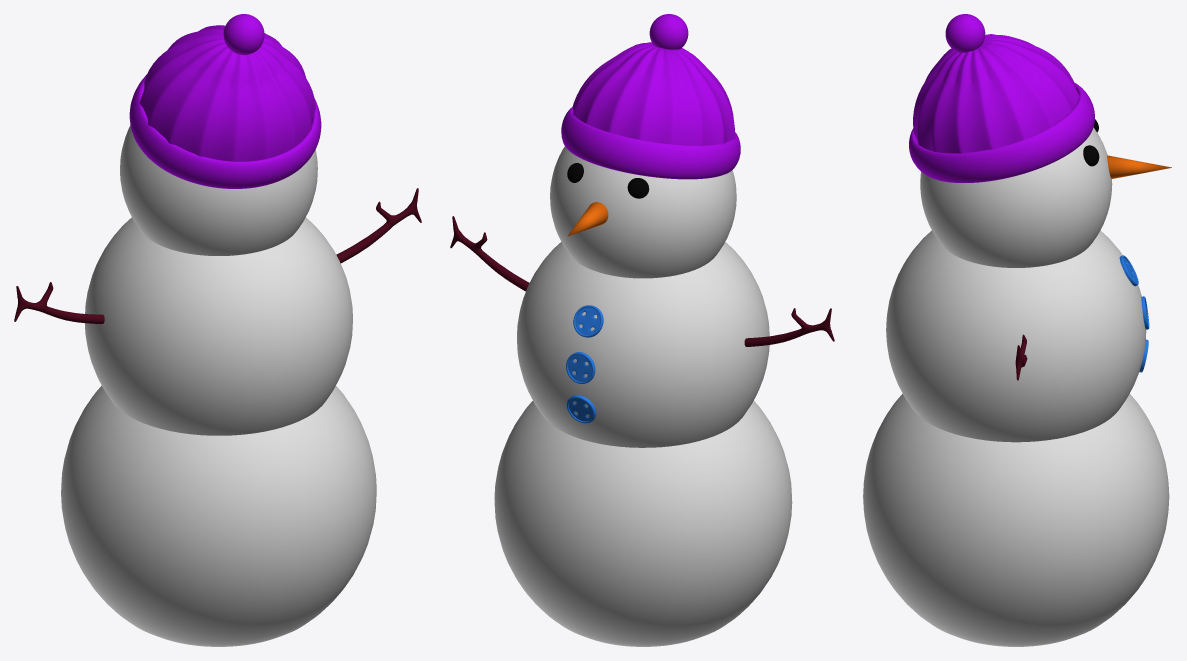
The model's file is SnowmanHat.fbx.
The picture shows the model from 3 angles, left to right: view 1: azimuth 30°, elevation 25°; view 2: azimuth 150°, elevation 25°; view 3: azimuth 270°, elevation 25°; orthographic projection. The views are drawn at different scales.
Visible parts, largest first — view 1: Snowman, Sphere.002, Circle, Vert, Sphere.003; view 2: Snowman, Sphere.002, Circle, Buttons, Vert, Sphere.003, Cone; view 3: Snowman, Sphere.002, Circle, Sphere.003, Cone, Buttons.
Boxes of the visible parts, x1,y1,x2,y2 form: Snowman: [61, 125, 376, 646]; Sphere.002: [139, 25, 315, 161]; Circle: [129, 74, 321, 188]; Vert: [14, 188, 421, 323]; Sphere.003: [223, 14, 264, 55]; Snowman: [494, 146, 792, 646]; Sphere.002: [572, 42, 735, 146]; Circle: [561, 107, 740, 179]; Buttons: [566, 305, 603, 423]; Vert: [450, 216, 834, 346]; Sphere.003: [649, 14, 688, 49]; Cone: [567, 202, 608, 236]; Snowman: [863, 127, 1169, 646]; Sphere.002: [913, 34, 1079, 153]; Circle: [909, 83, 1094, 182]; Sphere.003: [945, 14, 985, 52]; Cone: [1107, 155, 1171, 178]; Buttons: [1119, 255, 1149, 372].
Bounding box in the file's own units: 294 × 427 × 200.
